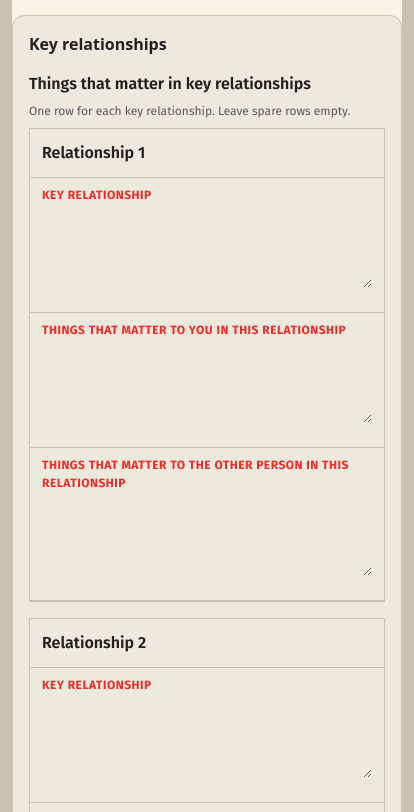
Test: guidance on a LEP worksheet › lists the requirements and ticks them off
In the text box named "Relationship 1 — Key relationship": [207, 252] box [42,216,372,288], type "My manager"
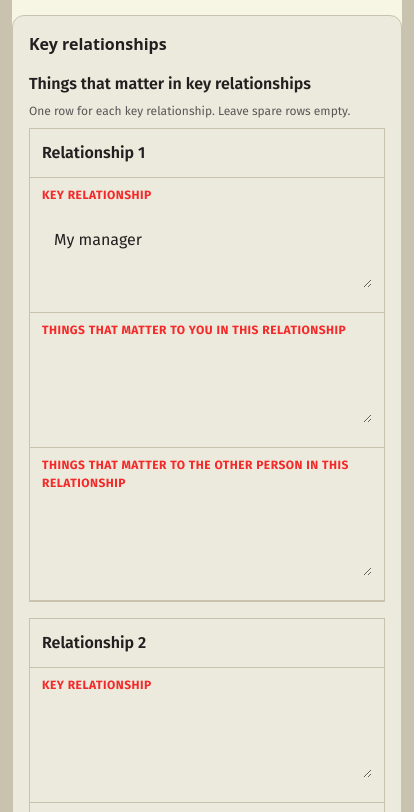
In the text box named "Relationship 1 — Things that matter to you in this relationship": [207, 387] box [42,351,372,423], type "Trust"
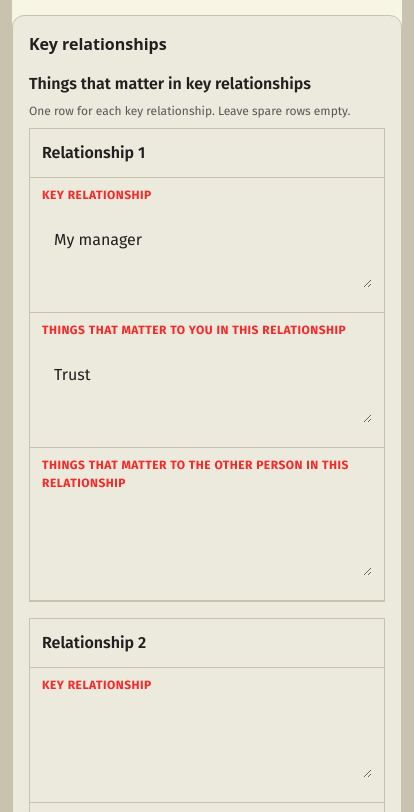
In the text box named "Relationship 1 — Things that matter to the other person in this relationship": [207, 540] box [42,504,372,576], type "Delivery"
(page scrolled)
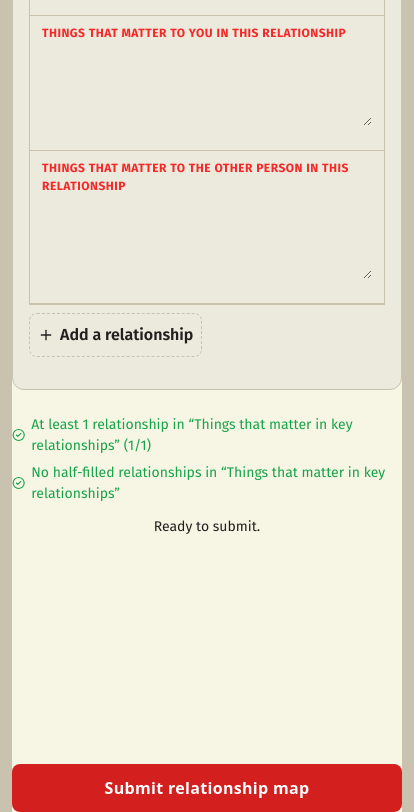
Check: the text "Ready to submit." is shown, box [154,518,260,535]
